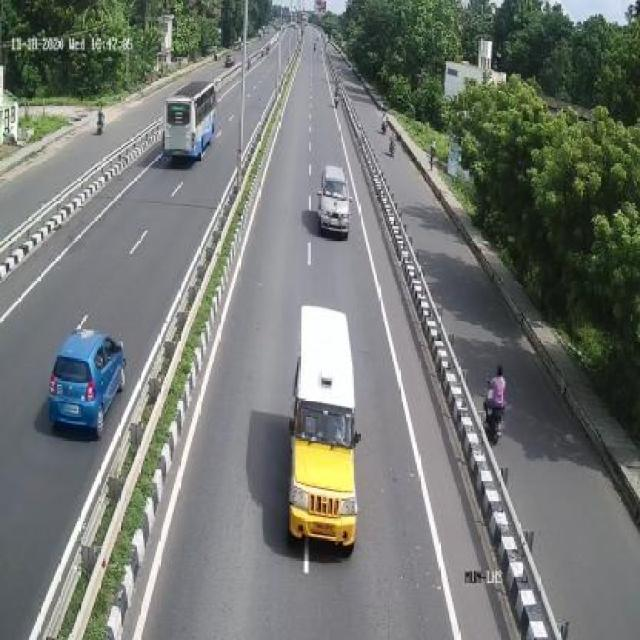car: (286, 289, 363, 562), (49, 326, 125, 434), (317, 160, 352, 238)
